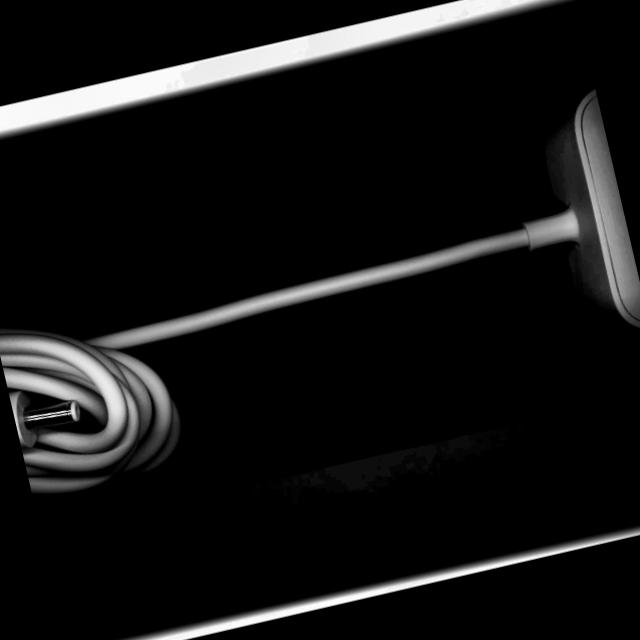Cable: (0, 85, 640, 510)
